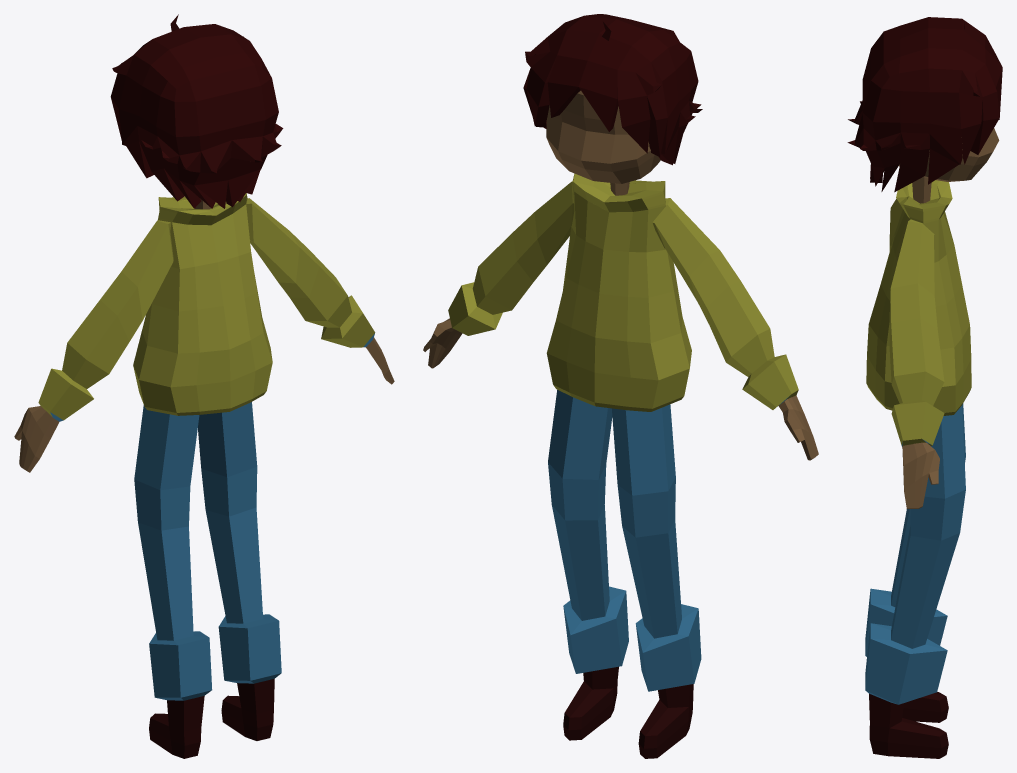
Rendered from protag.glb.
3 renders of one model, left to right at view 1: azimuth 30°, elevation 25°; view 2: azimuth 150°, elevation 25°; view 3: azimuth 270°, elevation 25°, orthographic. The views are drawn at different scales.
Parts seen in each view (by area): view 1: rosto; view 2: rosto; view 3: rosto.
Boxes of the visible parts, x1,y1,x2,y2 form: rosto: (14, 14, 394, 758); rosto: (423, 14, 818, 758); rosto: (847, 17, 1002, 758).
Bounding box in the file's own units: 0.7618 × 1.4 × 0.2732.
